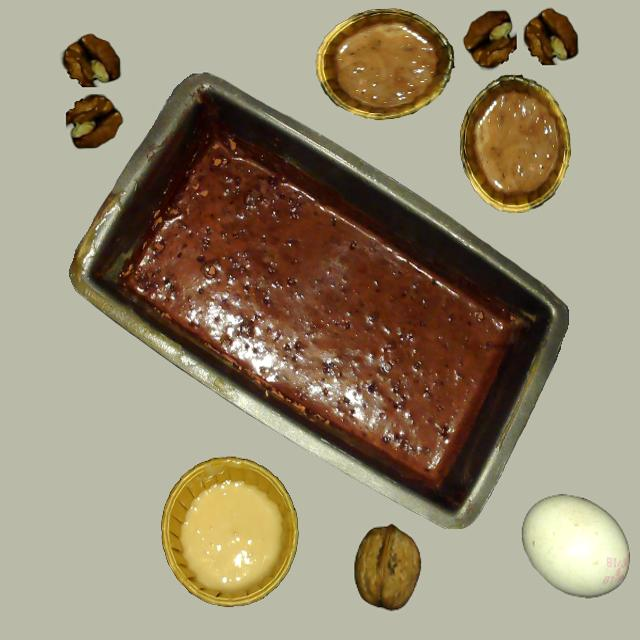Walnut: (351, 507, 432, 627)
